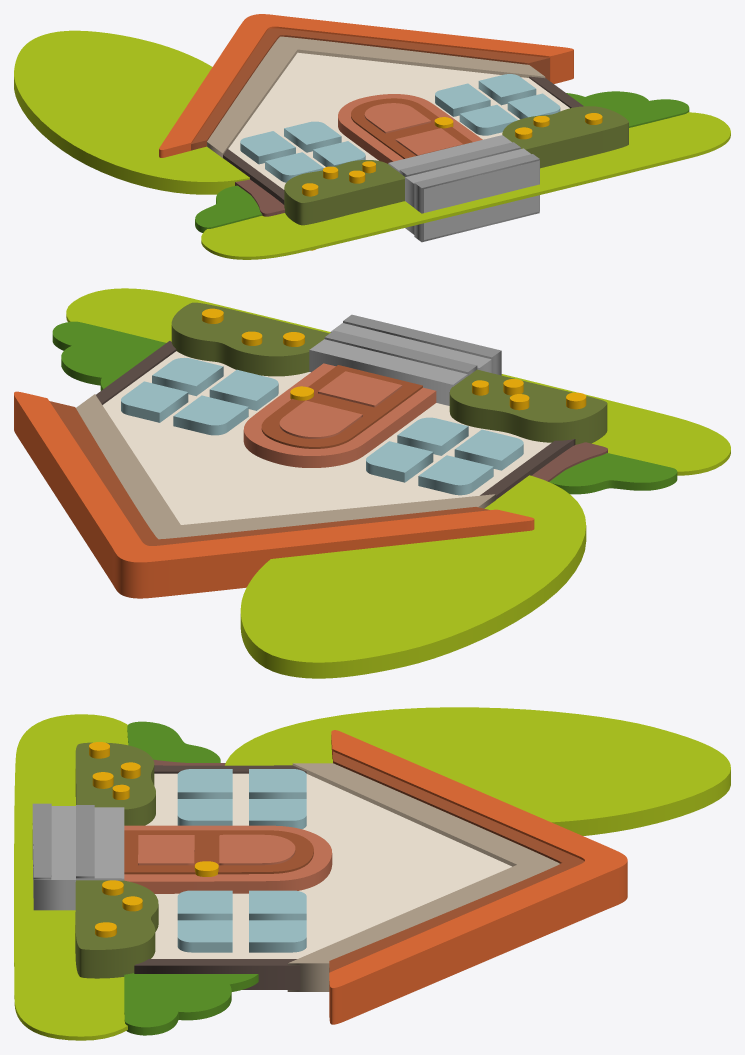
Rendered from emoji_u1f3e1.glb.
The picture shows the model from 3 angles, top to bottom: view 1: azimuth 30°, elevation 25°; view 2: azimuth 150°, elevation 25°; view 3: azimuth 270°, elevation 25°; orthographic projection. The views are drawn at different scales.
Visible parts, largest first — view 1: emoji_u1f3e1; view 2: emoji_u1f3e1; view 3: emoji_u1f3e1.
Part boxes in pixels (x1=…): emoji_u1f3e1: x1=14, y1=14, x2=730, y2=259; emoji_u1f3e1: x1=14, y1=288, x2=730, y2=678; emoji_u1f3e1: x1=14, y1=707, x2=730, y2=1040.
Size of the model in its own units: 0.034 by 0.0038 by 0.0319.
